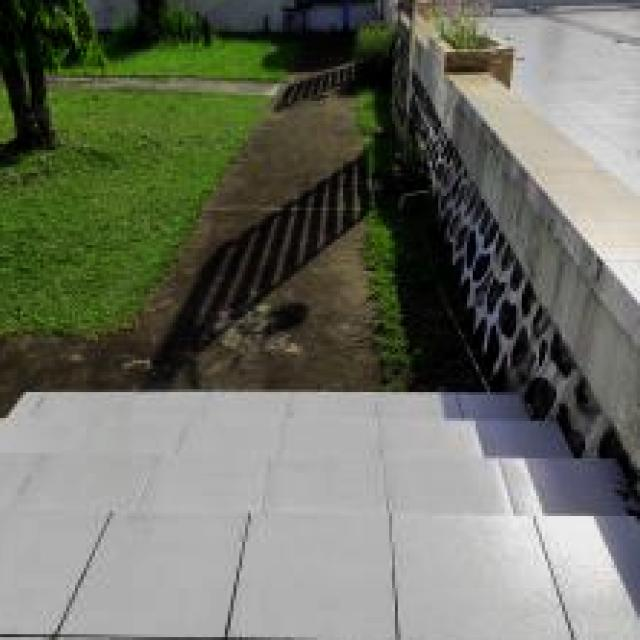downstair: (6, 392, 631, 632)
